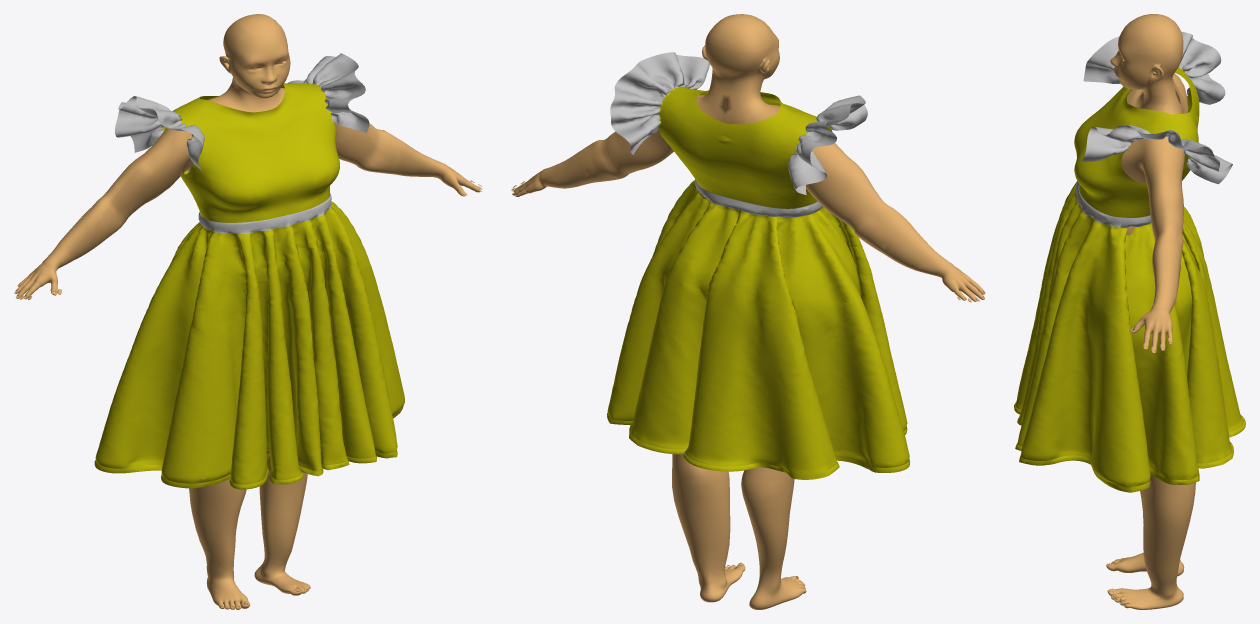
File: dress10.glb
3 renders of one model, left to right at view 1: azimuth 30°, elevation 25°; view 2: azimuth 150°, elevation 25°; view 3: azimuth 270°, elevation 25°, orthographic.
Parts seen in each view (by area): view 1: PinkDrees#14 (OBJ), Body; view 2: PinkDrees#14 (OBJ), Body; view 3: PinkDrees#14 (OBJ), Body.
Boxes of the visible parts, x1,y1,x2,y2 form: PinkDrees#14 (OBJ): [94, 53, 404, 489]; Body: [14, 14, 481, 609]; PinkDrees#14 (OBJ): [607, 52, 910, 479]; Body: [512, 14, 985, 609]; PinkDrees#14 (OBJ): [1014, 31, 1245, 492]; Body: [1106, 14, 1195, 609].
Size of the model in its own units: 1.59 by 1.88 by 0.6849.
